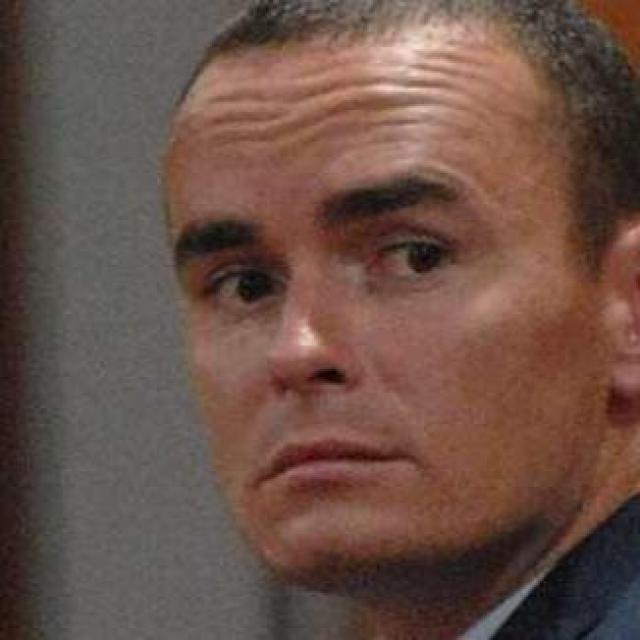surprised: (140, 82, 630, 566)
